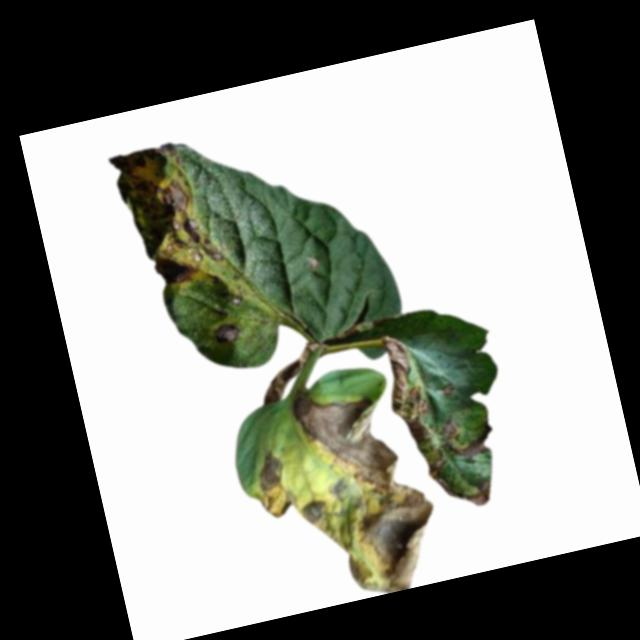Early_blight: (273, 369, 448, 608), (108, 135, 230, 298), (380, 334, 436, 452), (245, 341, 330, 406), (246, 445, 296, 522), (426, 448, 459, 502), (452, 429, 495, 460), (461, 478, 496, 508), (208, 320, 241, 348), (436, 415, 460, 441)
